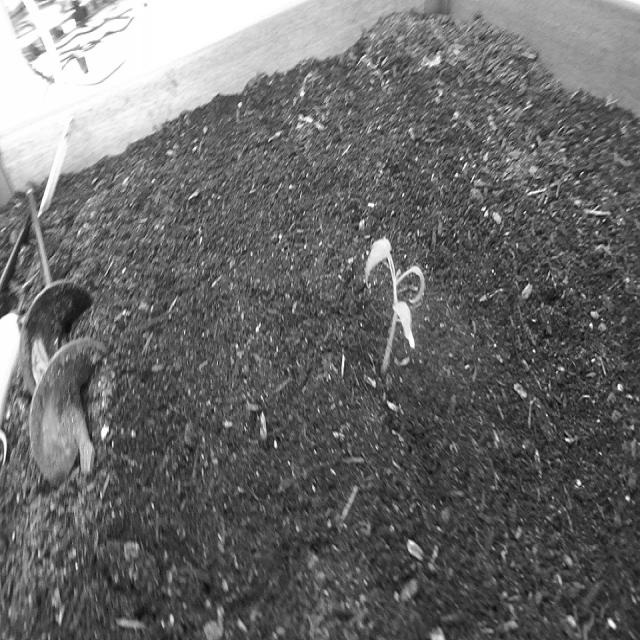Healthy: (362, 232, 427, 389)
